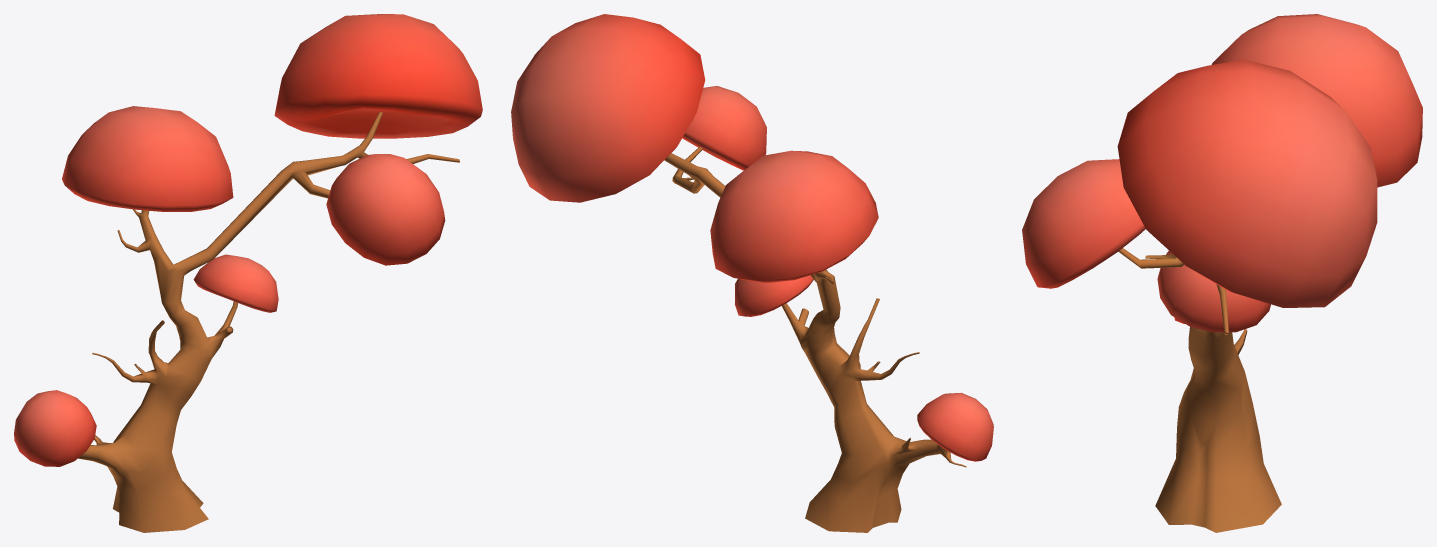
File: SM_Tree_21.fbx
The picture shows the model from 3 angles, left to right: view 1: azimuth 30°, elevation 25°; view 2: azimuth 150°, elevation 25°; view 3: azimuth 270°, elevation 25°; orthographic projection. The views are drawn at different scales.
Visible parts, largest first — view 1: SM_Tree_21; view 2: SM_Tree_21; view 3: SM_Tree_21.
Part boxes in pixels (left/top/right/bottom): SM_Tree_21: left=14, top=14, right=482, bottom=532; SM_Tree_21: left=511, top=14, right=993, bottom=532; SM_Tree_21: left=1022, top=14, right=1422, bottom=532.
Size of the model in its own units: 1259 by 1155 by 724.
